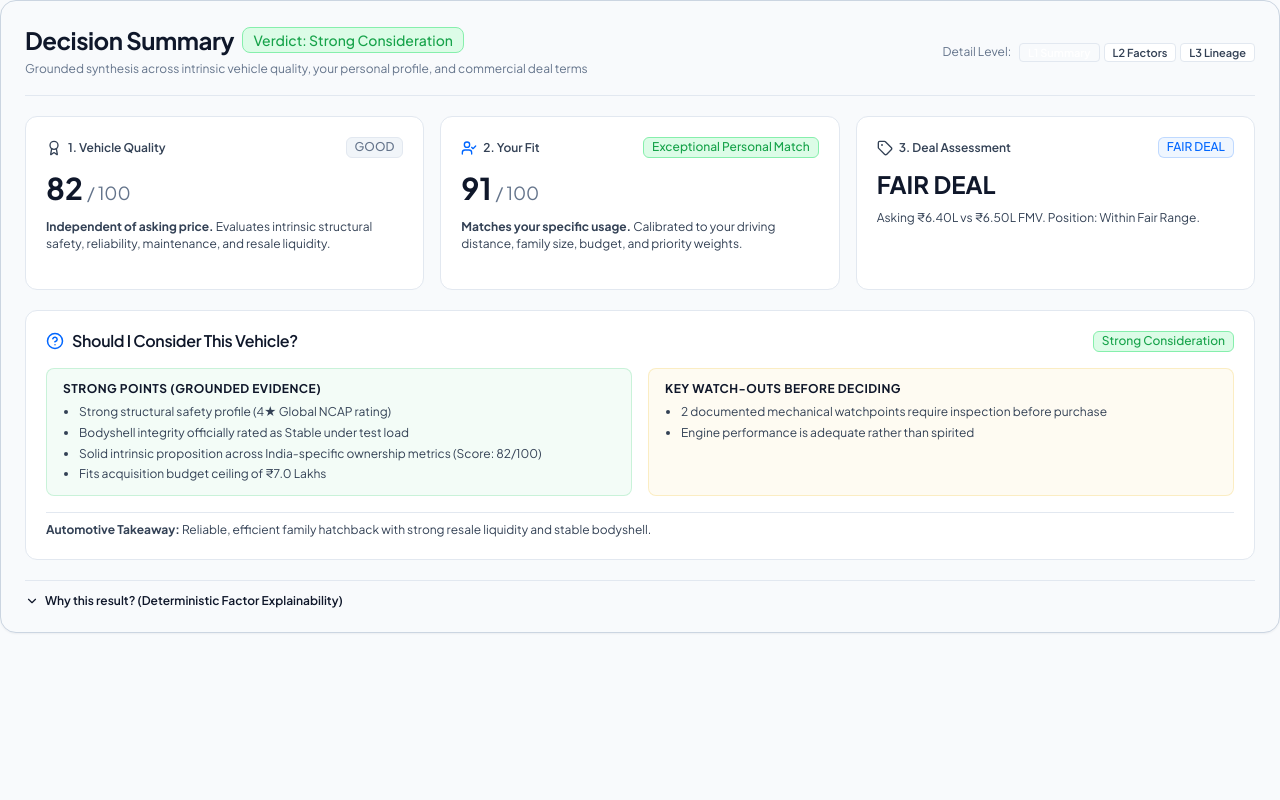
Test: Phase 18 — Production Decision Experience & Trust UX Tests › supports Section 18 progressive disclosure levels (L1, L2, L3 Lineage)
Step 1. Click the button "L3 Lineage" → (1218, 52), box [1180,42,1255,62]
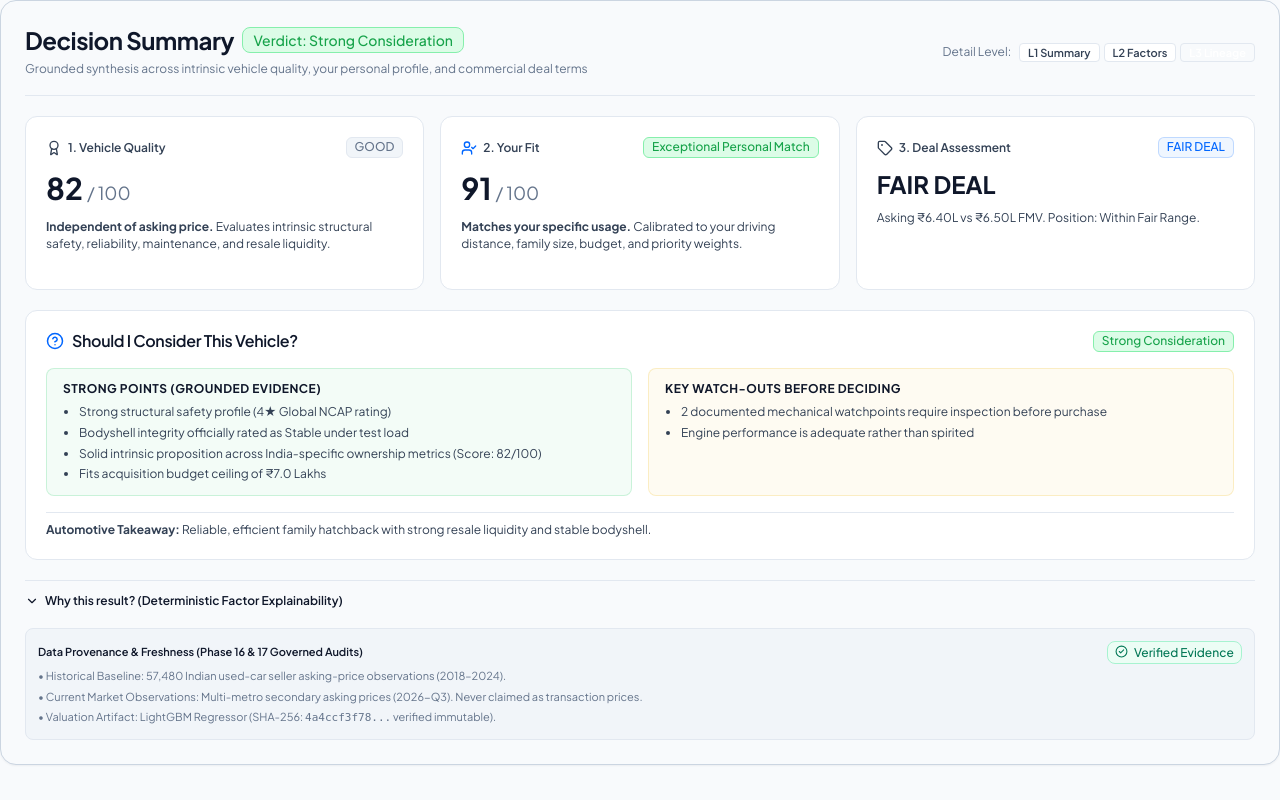
expect the text "Data Provenance & Freshness (Phase 16 & 17 Governed Audits)" is shown: met, box [38,644,363,661]
expect the text "57,480 Indian used-car seller asking-price observations (2018–2024)" is shown: met, box [38,669,506,682]
expect the text "Never claimed as transaction prices" is shown: met, box [38,690,642,703]
